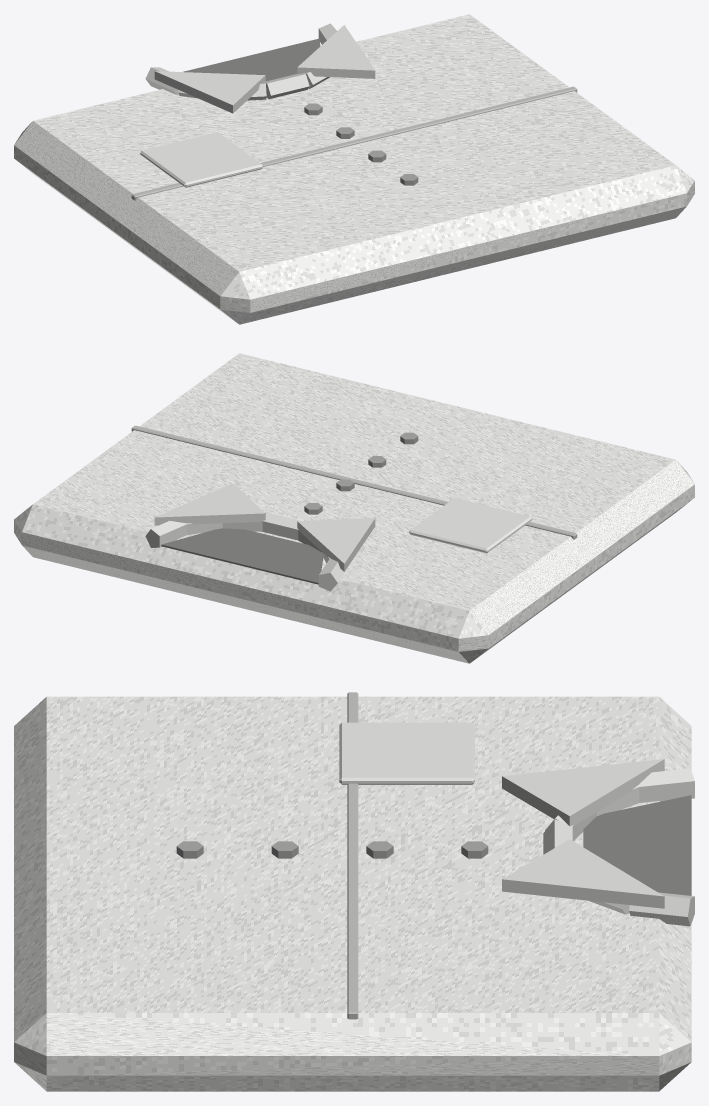
The model's file is dress_shirt.glb.
3 renders of one model, top to bottom at view 1: azimuth 30°, elevation 25°; view 2: azimuth 150°, elevation 25°; view 3: azimuth 270°, elevation 25°, orthographic. The views are drawn at different scales.
Visible parts, largest first — view 1: block_body, block_pocket, block_point-1, block_point1, block_neckhole, block_fold, block_neck3; view 2: block_body, block_neckhole, block_pocket, block_point1, block_point-1, block_fold, block_neck0, block_neck3, block_neck6; view 3: block_body, block_pocket, block_neckhole, block_point1, block_point-1, block_fold, block_neck6, block_neck0, block_neck3.
Boxes of the visible parts, left/top/right/bottom form: block_body: left=14, top=14, right=694, bottom=324; block_pocket: left=140, top=132, right=263, bottom=187; block_point-1: left=154, top=71, right=265, bottom=113; block_point1: left=297, top=25, right=375, bottom=78; block_neckhole: left=183, top=38, right=320, bottom=81; block_fold: left=131, top=86, right=577, bottom=200; block_neck3: left=264, top=73, right=309, bottom=99; block_body: left=14, top=353, right=694, bottom=663; block_neckhole: left=161, top=528, right=323, bottom=584; block_pocket: left=409, top=498, right=532, bottom=553; block_point1: left=154, top=483, right=265, bottom=525; block_point-1: left=297, top=518, right=375, bottom=571; block_fold: left=131, top=425, right=577, bottom=539; block_neck0: left=145, top=520, right=186, bottom=547; block_neck3: left=262, top=512, right=300, bottom=540; block_neck6: left=318, top=559, right=348, bottom=591; block_body: left=14, top=696, right=691, bottom=1091; block_pocket: left=339, top=722, right=474, bottom=784; block_neckhole: left=583, top=795, right=691, bottom=895; block_point1: left=502, top=839, right=664, bottom=908; block_point-1: left=502, top=759, right=664, bottom=826; block_fold: left=347, top=692, right=358, bottom=1019; block_neck6: left=638, top=768, right=694, bottom=802; block_neck0: left=629, top=892, right=694, bottom=926; block_neck3: left=543, top=819, right=572, bottom=854.
Size of the model in its own units: 0.3 by 0.043 by 0.2512.
Materials: 1 (1 with a texture image).
